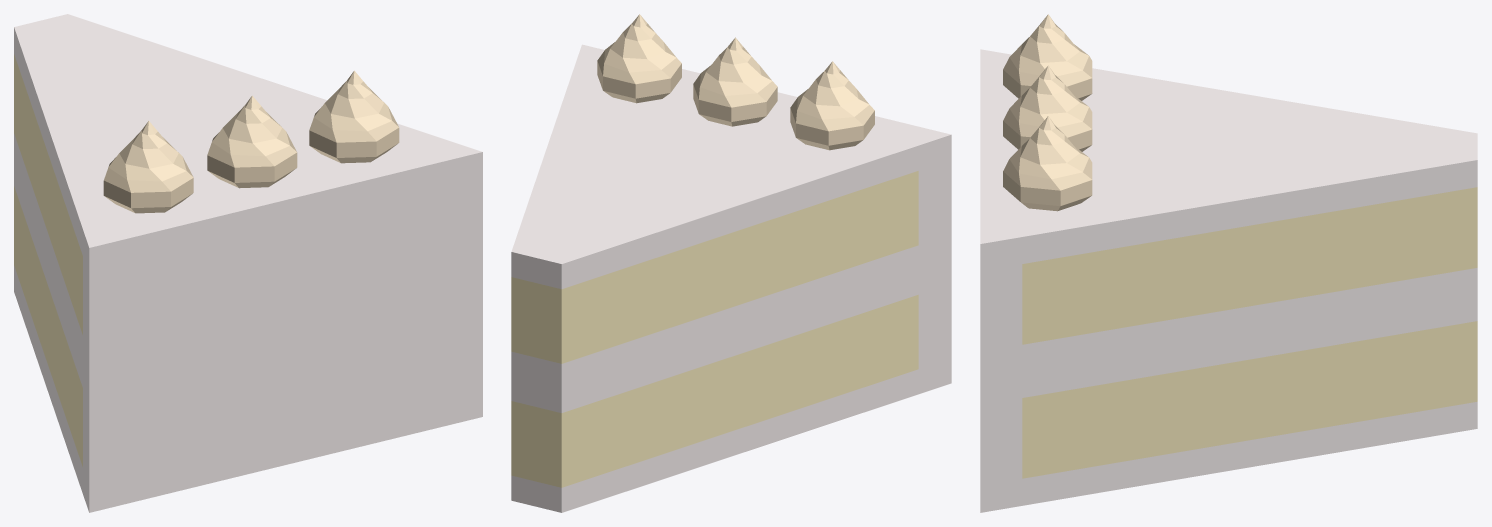
File: VanillaCake.fbx
The picture shows the model from 3 angles, left to right: view 1: azimuth 30°, elevation 25°; view 2: azimuth 150°, elevation 25°; view 3: azimuth 270°, elevation 25°; orthographic projection. The views are drawn at different scales.
Parts seen in each view (by area): view 1: polySurface739; view 2: polySurface739; view 3: polySurface739.
Boxes of the visible parts, left/top/right/bottom form: polySurface739: left=14, top=14, right=482, bottom=512; polySurface739: left=511, top=14, right=951, bottom=512; polySurface739: left=980, top=14, right=1477, bottom=512.
Bounding box in the file's own units: 15.05 × 12.61 × 16.24.
